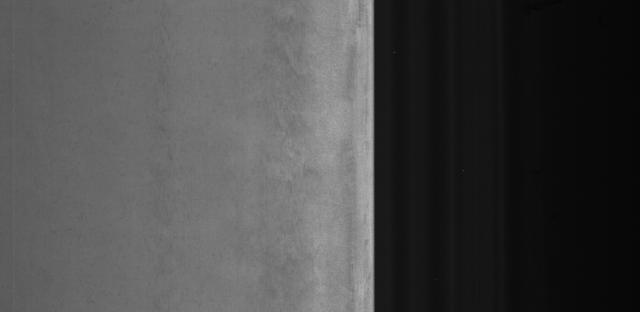silk_spot: (238, 70, 318, 256)
